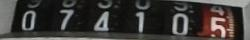digits: (202, 0, 232, 38), (90, 0, 116, 38), (166, 0, 191, 37), (16, 0, 40, 32), (130, 0, 150, 38), (56, 0, 77, 34)
